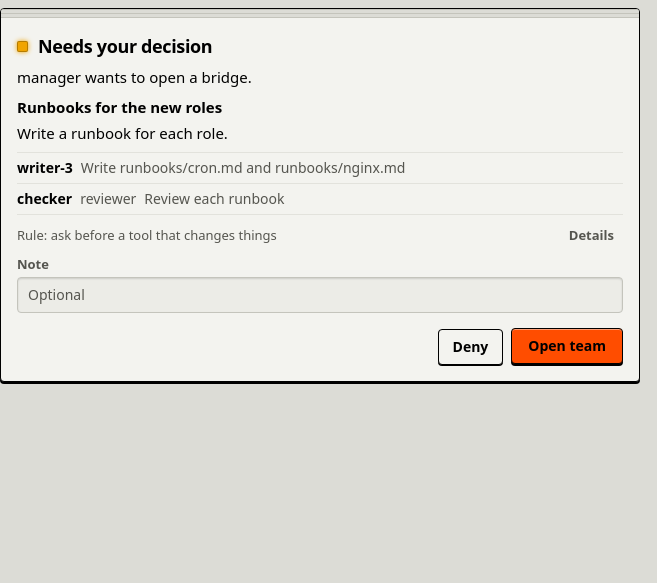
Scenario: the plan of a call that is not a shell command › says what Open team opens before Details: the title, the goal, and each seat, and never the rule id
This screenshot has width=657, height=583.
Check: the text "Runbooks for the new roles" is shown, box [17, 97, 222, 117]
Check: the element showing "Write a runbook for each role." is shown, box [17, 123, 228, 143]
Click the button with class "details-key". click: (591, 235)
box: [560, 223, 623, 247]
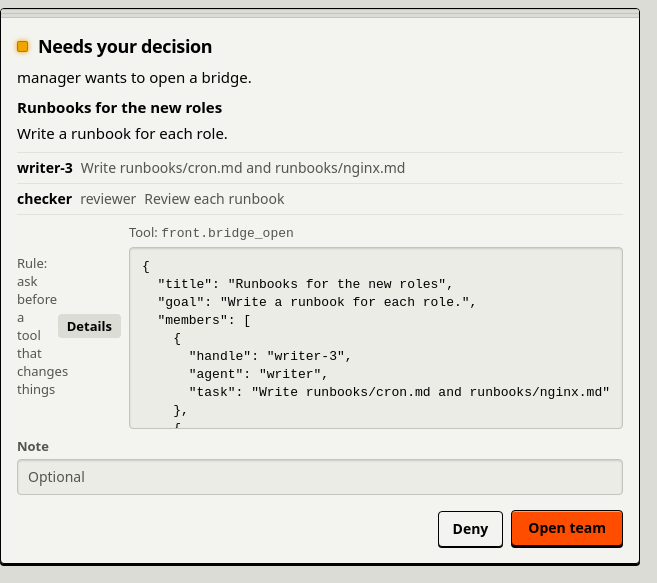
Check: the element with class "details" shows "Tool: front.bridge_open", box [129, 223, 623, 429]
Check: the text "\"title\": \"Runbooks for the new roles\"" is shown, box [142, 259, 610, 544]
